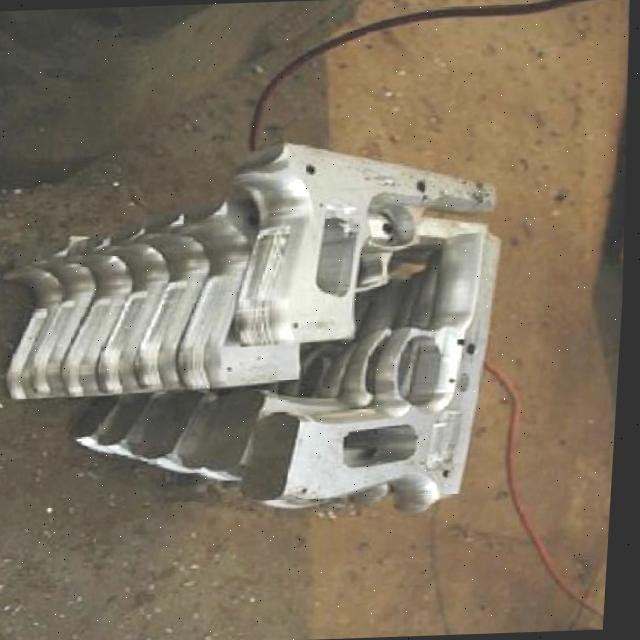gun: (233, 232, 518, 520), (224, 136, 511, 347)
